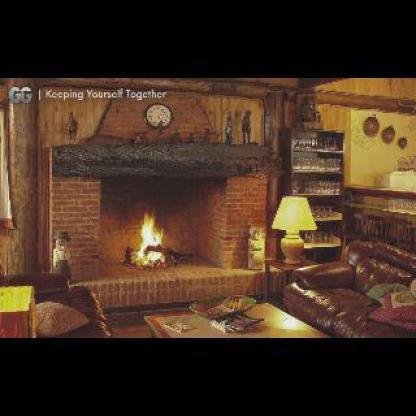fire: (134, 207, 168, 266)
